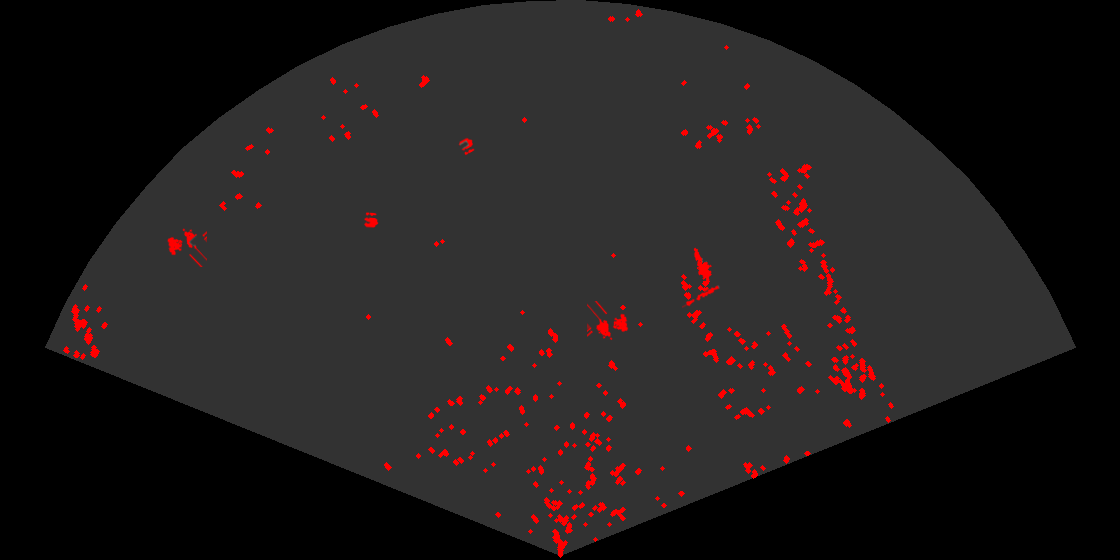ball: (457, 136, 476, 157), (363, 211, 380, 229)
cage: (587, 301, 630, 342), (166, 227, 207, 267)
chain: (682, 284, 721, 310)
frogman: (692, 247, 714, 281)
